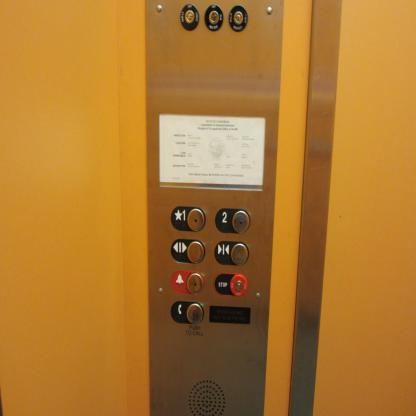2: (214, 207, 251, 234)
alarm: (170, 270, 206, 295)
call: (171, 301, 204, 324)
close: (214, 240, 250, 266)
keyhole: (179, 2, 200, 30), (203, 4, 224, 31), (228, 4, 249, 31)
open: (170, 238, 206, 264)
s1: (171, 204, 206, 232)
stop: (214, 272, 249, 297)
